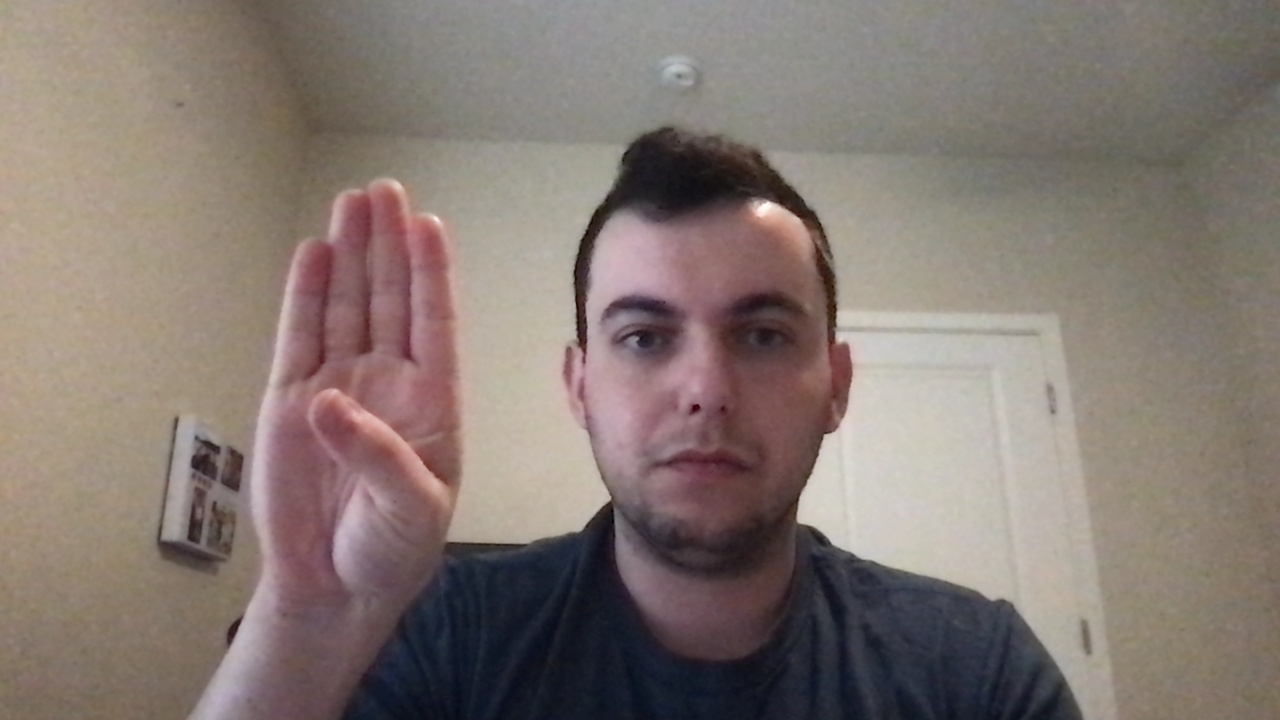b: (244, 174, 476, 601)
